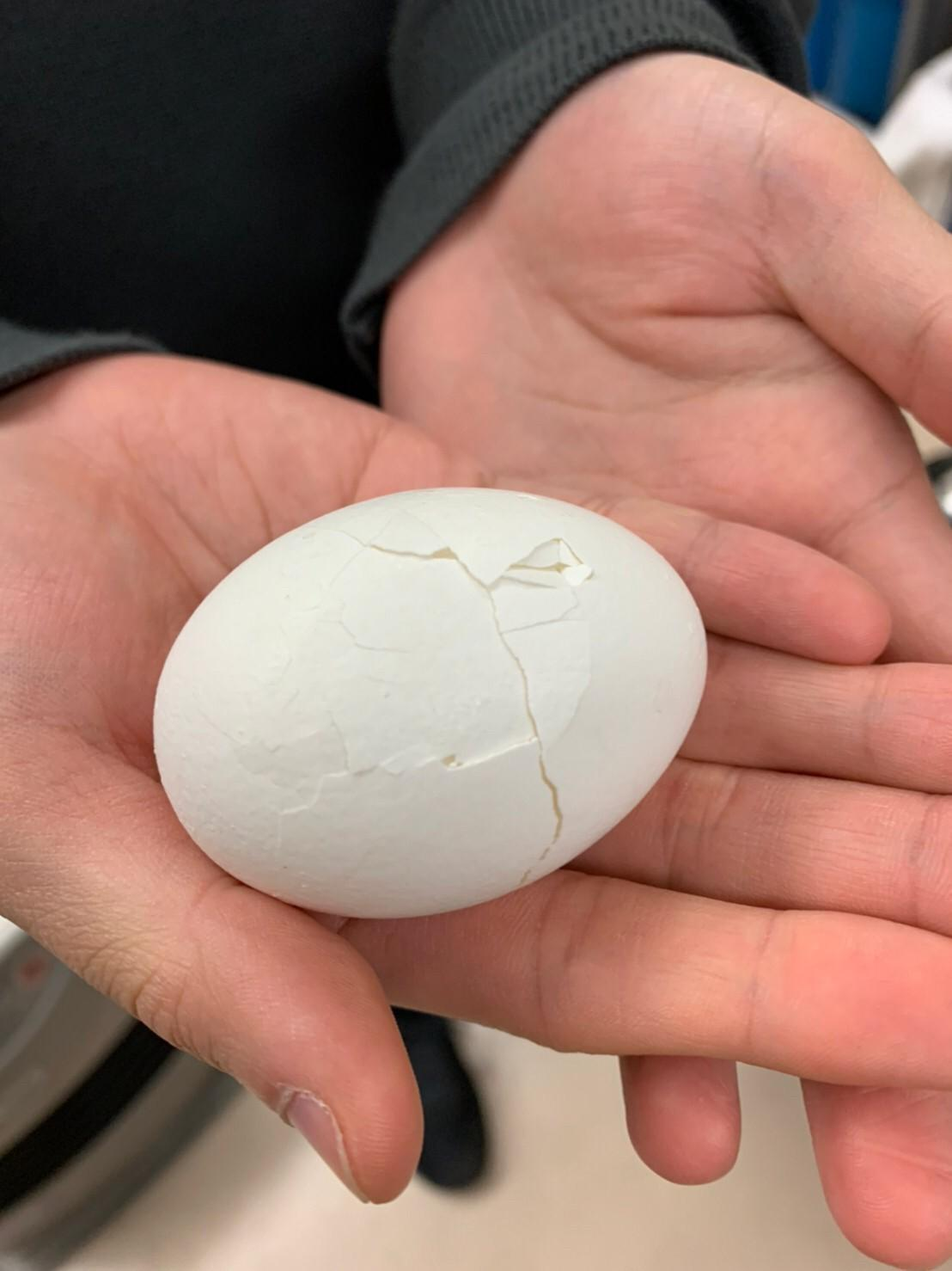egg: (146, 485, 709, 923)
